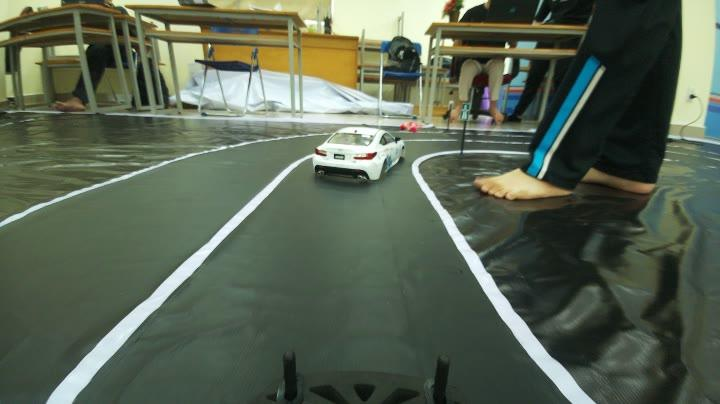car: (313, 122, 406, 186)
